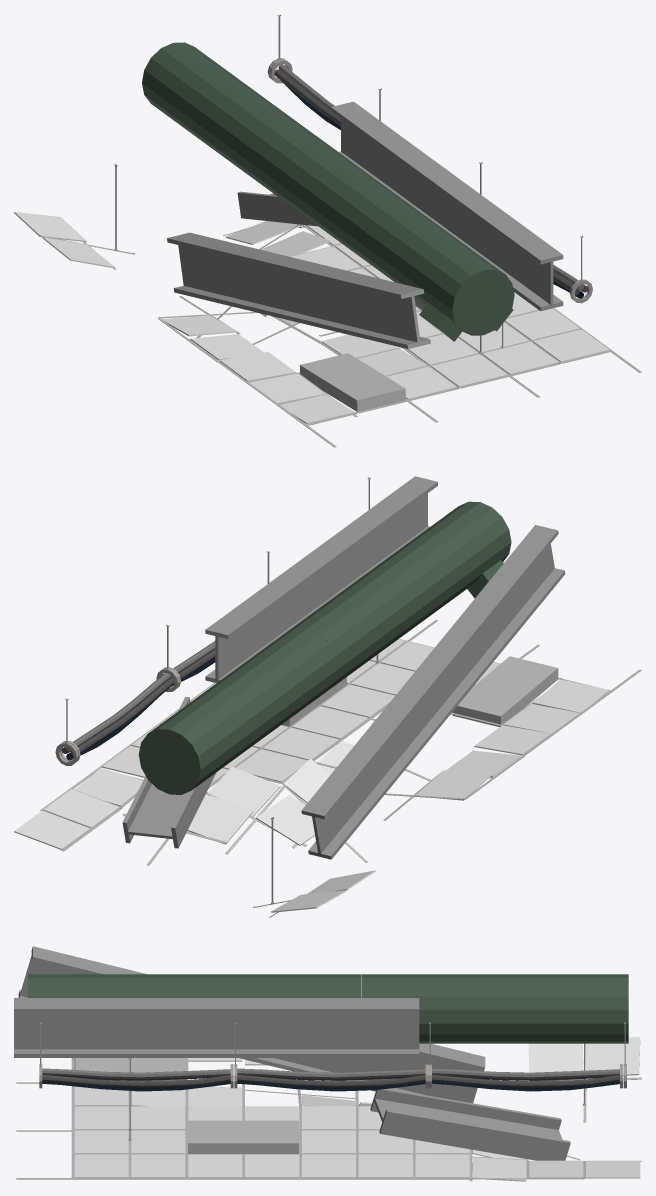
The model's file is shortHallwayDestroyedVariantA.fbx.
3 views of the same model, one above another, from view 1: azimuth 30°, elevation 25°; view 2: azimuth 150°, elevation 25°; view 3: azimuth 270°, elevation 25° (orthographic). The views are drawn at different scales.
Parts seen in each view (by area): view 1: Plane.496; view 2: Plane.496; view 3: Plane.496.
Boxes of the visible parts, x1=… form: Plane.496: x1=14, y1=14, x2=641, y2=447; Plane.496: x1=14, y1=476, x2=641, y2=917; Plane.496: x1=14, y1=946, x2=641, y2=1181.
Bounding box in the file's own units: 1270 × 775 × 2320.
